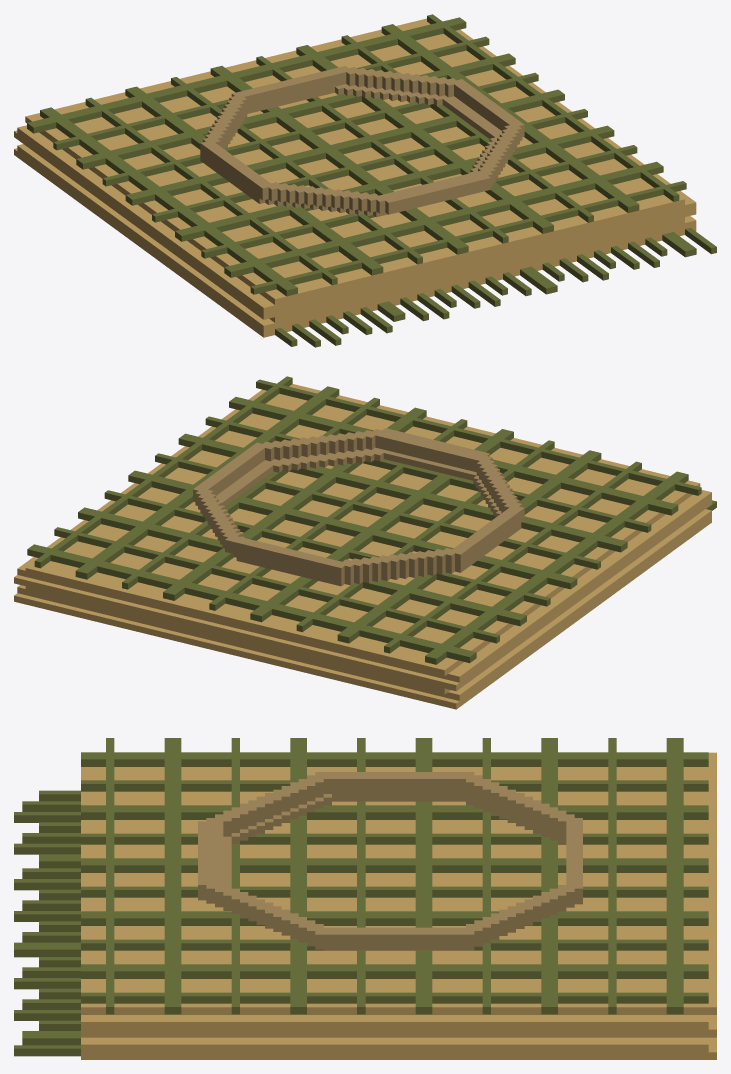
File: grass_keffiyeh.glb
The picture shows the model from 3 angles, top to bottom: view 1: azimuth 30°, elevation 25°; view 2: azimuth 150°, elevation 25°; view 3: azimuth 270°, elevation 25°; orthographic projection. The views are drawn at different scales.
Visible parts, largest first — view 1: grass_keffiyeh:compound; view 2: grass_keffiyeh:compound; view 3: grass_keffiyeh:compound.
Boxes of the visible parts, x1=… form: grass_keffiyeh:compound: x1=14, y1=14, x2=716, y2=347; grass_keffiyeh:compound: x1=14, y1=376, x2=716, y2=709; grass_keffiyeh:compound: x1=14, y1=738, x2=716, y2=1059.
Bounding box in the file's own units: 0.304 × 0.04 × 0.336.
